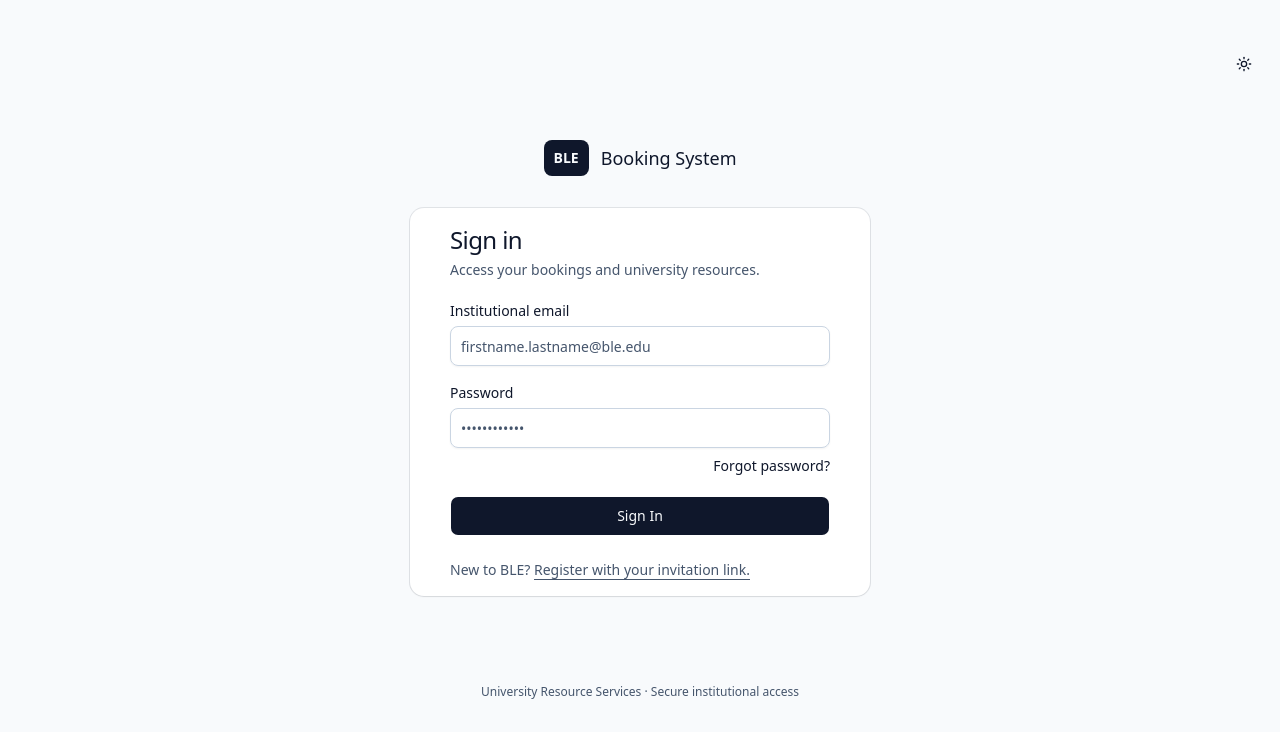
Test case: login › stores the real login response and lands on the catalog
Type "staff@example.com" into the field with placeholder "firstname.lastname@ble.edu" at (640, 346), box [450,326,830,366]
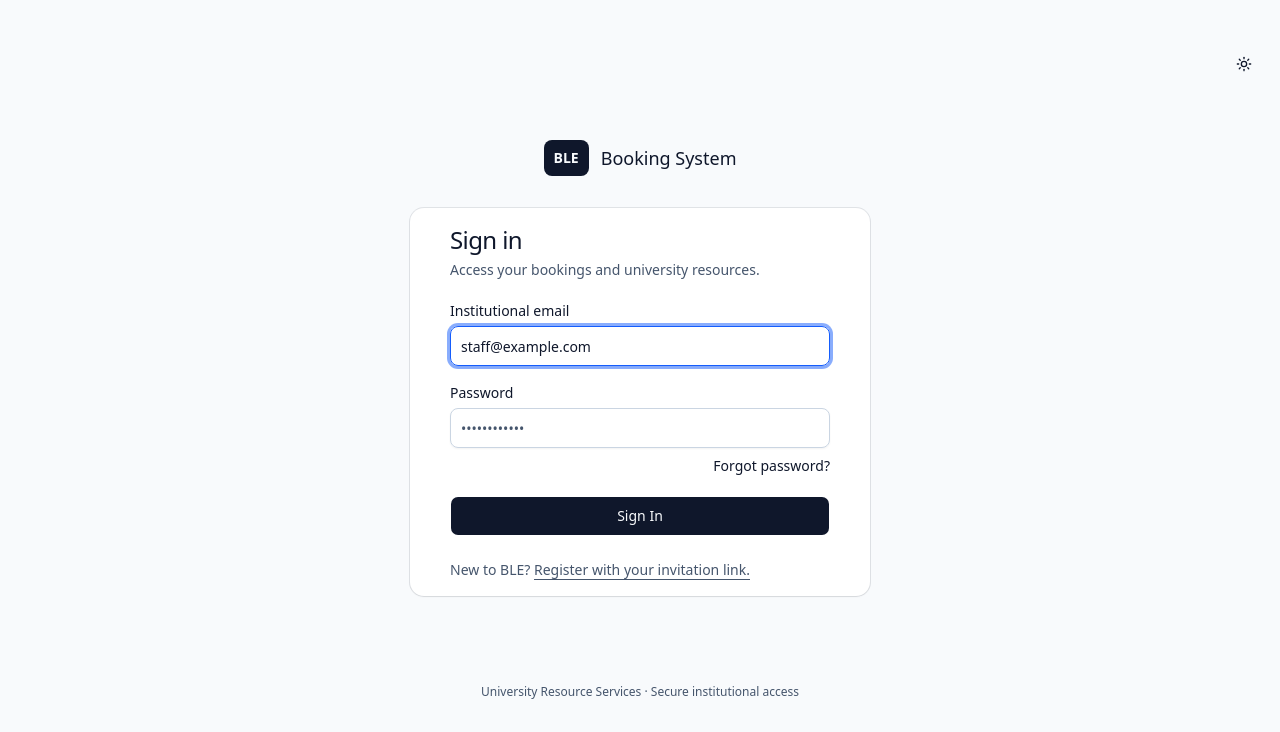
Type "secret-pw" into the password field with placeholder "••••••••••••" at (640, 428), box [450,408,830,448]
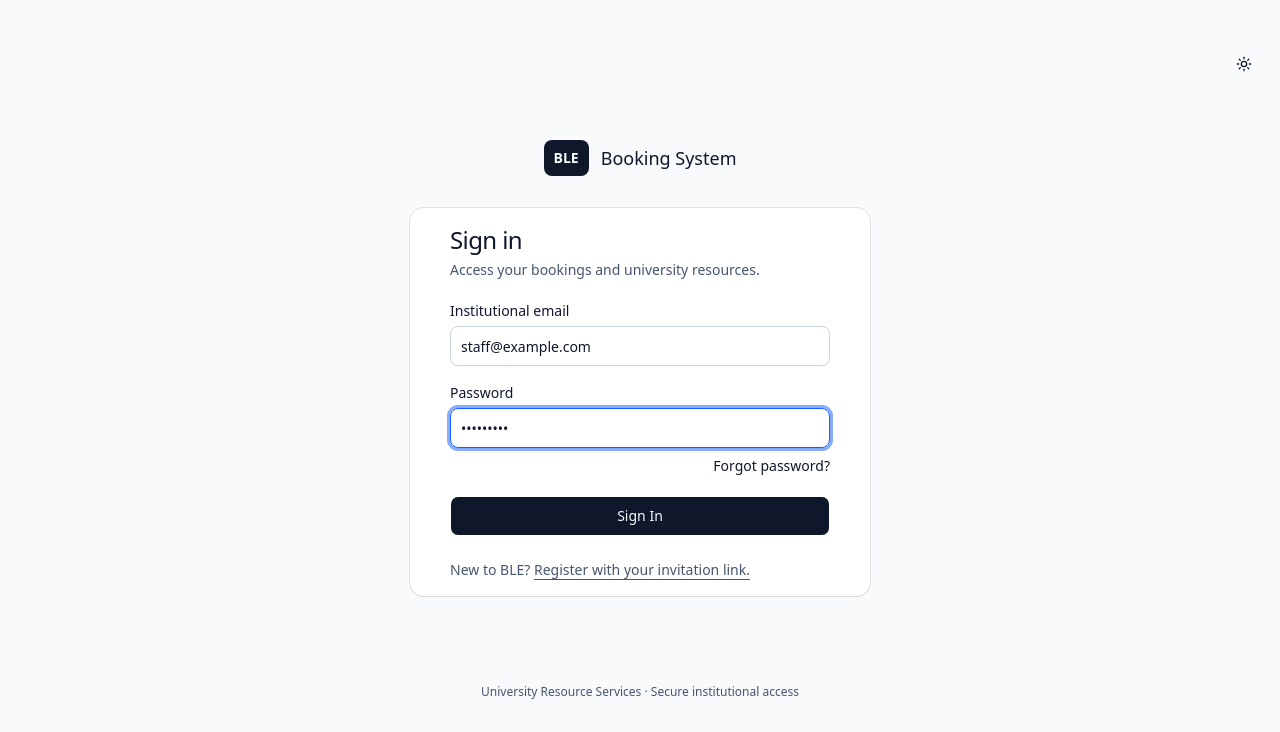
Click the button "Sign In" at (640, 516), box [450,496,830,536]
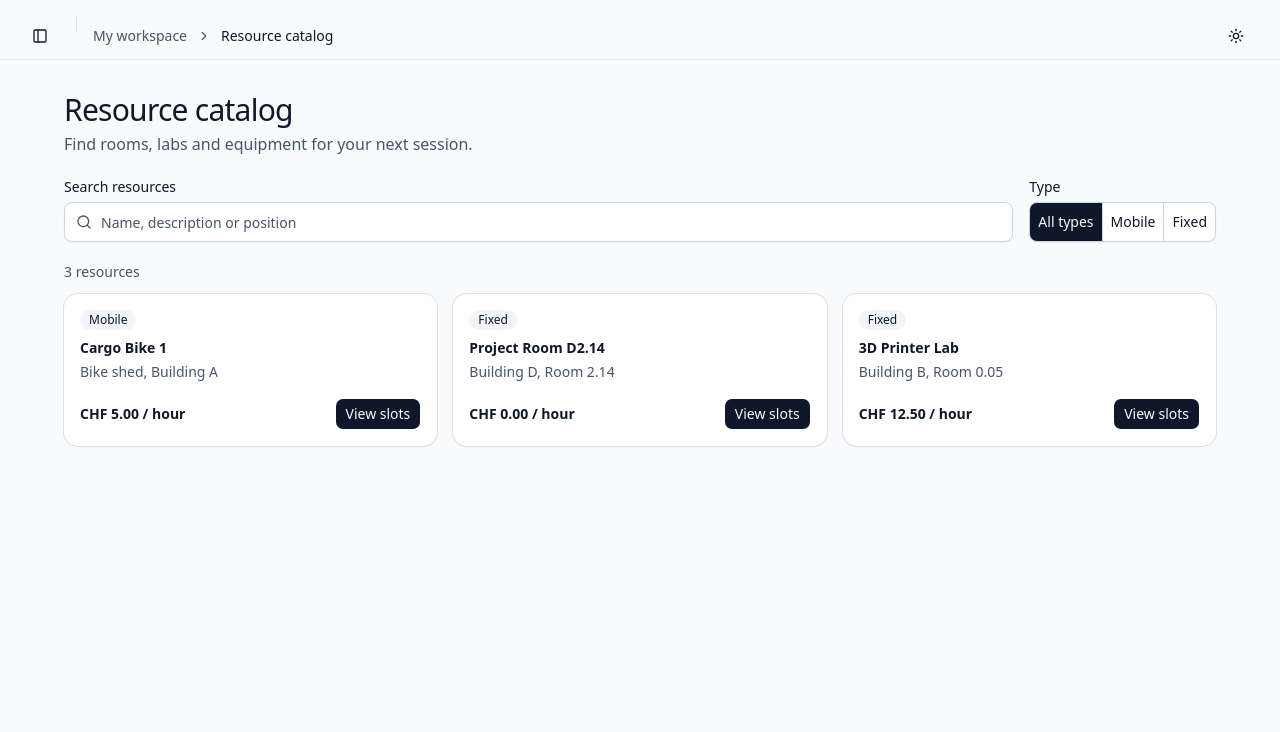
Expected: the heading "Resource catalog" is shown, [64,89,293,130]
